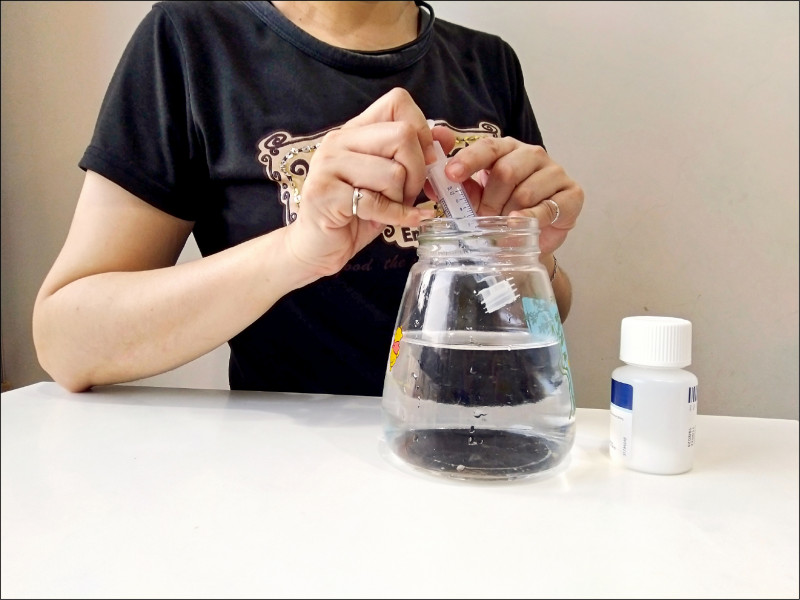medicinejar: (612, 312, 701, 479)
